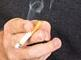smoke: (15, 21, 42, 48)
